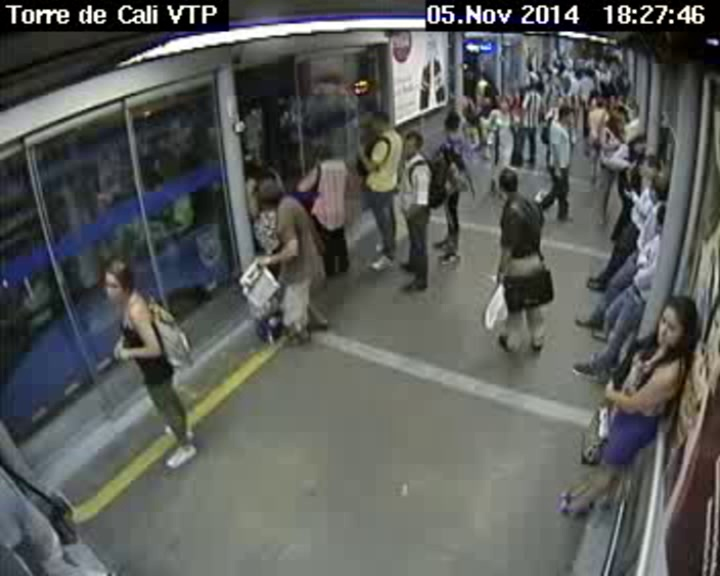person: (654, 290, 691, 361), (93, 259, 133, 301), (253, 173, 285, 214), (496, 165, 523, 203), (402, 127, 423, 169), (646, 171, 671, 201), (365, 108, 392, 132), (310, 142, 338, 165), (650, 204, 671, 234), (443, 111, 459, 138), (642, 153, 660, 175), (607, 109, 622, 132), (633, 133, 648, 155), (555, 105, 574, 122), (497, 94, 512, 113), (529, 76, 540, 93), (473, 68, 485, 81), (596, 96, 606, 107)
